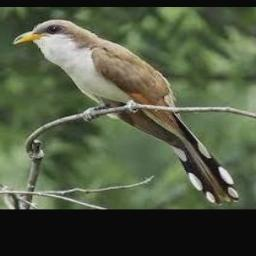Cuckoo: (15, 20, 240, 205)
